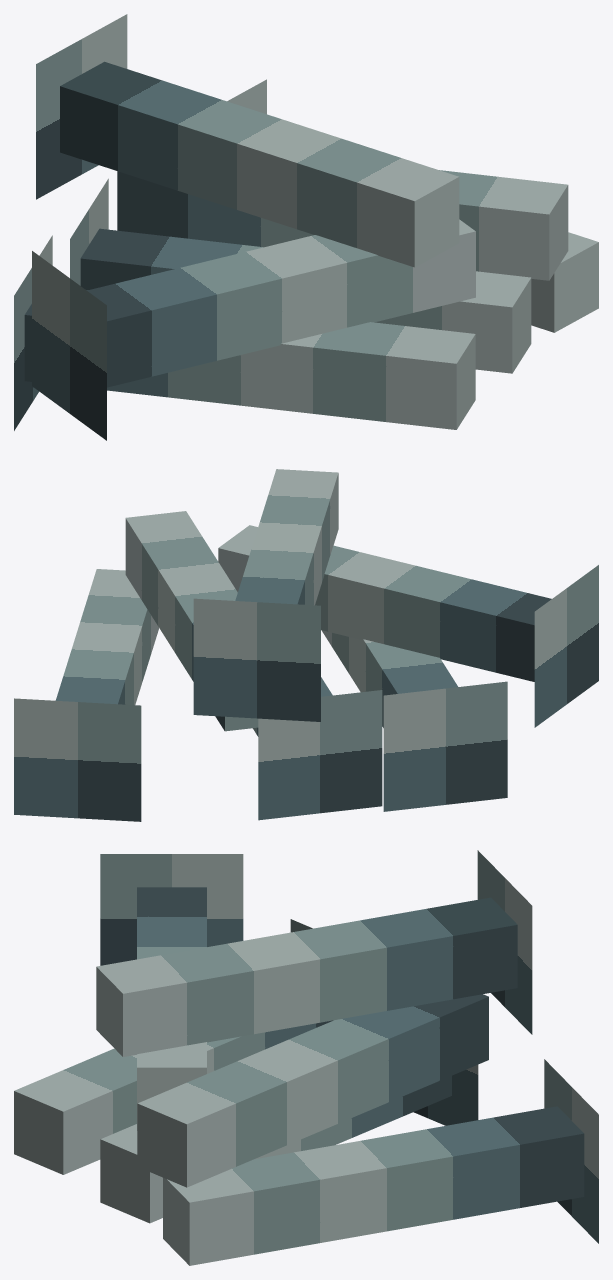
The model's file is nails.gltf.
3 renders of one model, top to bottom at view 1: azimuth 30°, elevation 25°; view 2: azimuth 150°, elevation 25°; view 3: azimuth 270°, elevation 25°, orthographic. The views are drawn at different scales.
Visible parts, largest first — view 1: octagon; view 2: octagon; view 3: octagon.
Part boxes in pixels (<box>): octagon: <box>14,14,598,440</box>; octagon: <box>14,469,598,821</box>; octagon: <box>14,850,598,1265</box>.
Size of the model in its own units: 0.5196 by 0.248 by 0.5116.
Materials: 1 (1 with a texture image).
